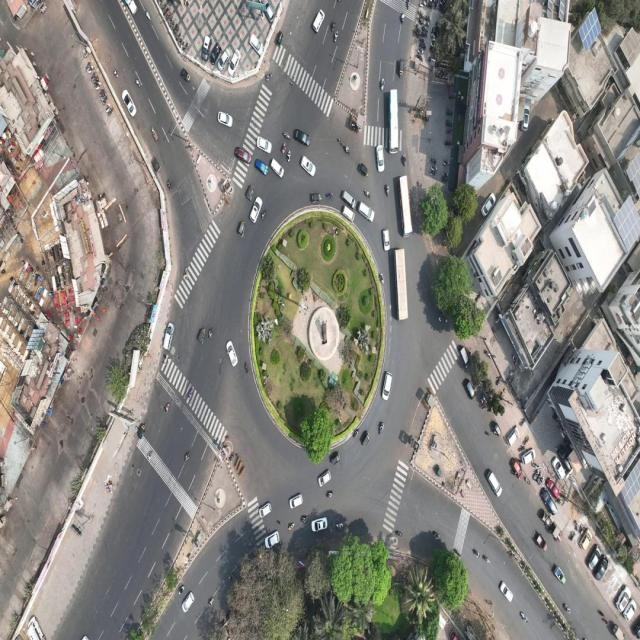3W: (360, 429, 372, 451), (464, 378, 475, 401), (136, 420, 147, 443), (357, 161, 370, 179), (245, 182, 255, 204), (329, 448, 341, 466), (236, 219, 246, 240), (150, 154, 161, 173), (196, 326, 206, 345), (275, 29, 284, 49), (491, 420, 501, 438), (180, 68, 192, 82), (398, 54, 404, 80), (309, 192, 322, 203)
Bus: (392, 246, 412, 326), (398, 174, 415, 240), (388, 88, 400, 156)
Cars: (539, 484, 558, 518), (485, 468, 503, 500), (120, 88, 138, 119), (614, 584, 632, 614), (248, 194, 263, 228), (594, 552, 610, 583), (479, 191, 496, 220), (224, 336, 238, 371), (518, 100, 531, 136), (380, 369, 393, 404), (588, 542, 602, 574), (247, 32, 264, 58), (357, 201, 377, 223), (233, 144, 252, 167), (227, 48, 242, 77), (621, 597, 637, 624), (163, 321, 176, 354), (557, 442, 571, 472), (498, 578, 514, 604), (299, 153, 316, 177), (545, 474, 560, 501), (292, 127, 312, 147), (310, 9, 326, 33), (216, 109, 235, 129), (551, 453, 565, 480), (316, 467, 332, 490), (519, 448, 539, 466), (309, 516, 329, 534), (200, 34, 211, 66), (254, 134, 272, 153), (578, 528, 592, 552), (268, 158, 284, 179), (253, 156, 268, 178), (181, 592, 196, 614), (217, 47, 230, 72), (264, 531, 282, 549), (506, 425, 520, 448), (340, 189, 356, 209), (458, 348, 472, 370), (288, 494, 304, 513), (339, 203, 355, 222), (510, 457, 522, 482), (376, 144, 386, 174), (259, 500, 272, 522), (209, 42, 220, 66), (382, 228, 391, 252)
LCV: (536, 531, 550, 552), (554, 564, 567, 586), (612, 620, 625, 640), (126, 0, 139, 20)
M2W: (186, 386, 195, 402), (562, 602, 572, 616), (518, 611, 529, 623), (150, 126, 158, 141), (184, 448, 191, 465), (329, 18, 336, 34), (453, 546, 461, 560), (471, 550, 482, 560), (378, 421, 384, 438), (394, 529, 404, 539), (378, 271, 385, 285), (537, 474, 544, 488), (177, 584, 185, 596), (364, 188, 371, 201), (207, 596, 214, 609), (164, 401, 170, 416), (334, 30, 339, 48), (286, 149, 292, 164), (325, 489, 335, 498), (326, 190, 334, 201), (385, 182, 390, 199), (265, 70, 272, 82), (344, 144, 350, 158), (260, 208, 266, 222), (352, 428, 359, 440), (301, 513, 308, 525), (535, 472, 542, 484), (442, 158, 451, 167), (244, 360, 249, 376), (282, 130, 290, 140), (432, 529, 440, 539), (444, 126, 454, 134), (208, 326, 214, 339), (166, 180, 172, 193), (401, 154, 407, 167), (227, 573, 233, 586), (400, 11, 405, 26), (512, 355, 518, 367), (447, 92, 455, 101), (183, 266, 188, 280), (112, 68, 119, 78), (288, 522, 295, 532), (444, 138, 451, 148), (486, 350, 492, 361), (380, 76, 384, 92), (531, 471, 539, 479), (335, 522, 344, 529), (136, 79, 142, 89), (484, 554, 490, 564), (445, 109, 455, 115), (445, 119, 453, 126), (429, 157, 437, 164), (430, 164, 438, 171), (282, 142, 286, 154), (406, 0, 410, 11), (429, 172, 436, 178), (440, 173, 450, 177)
